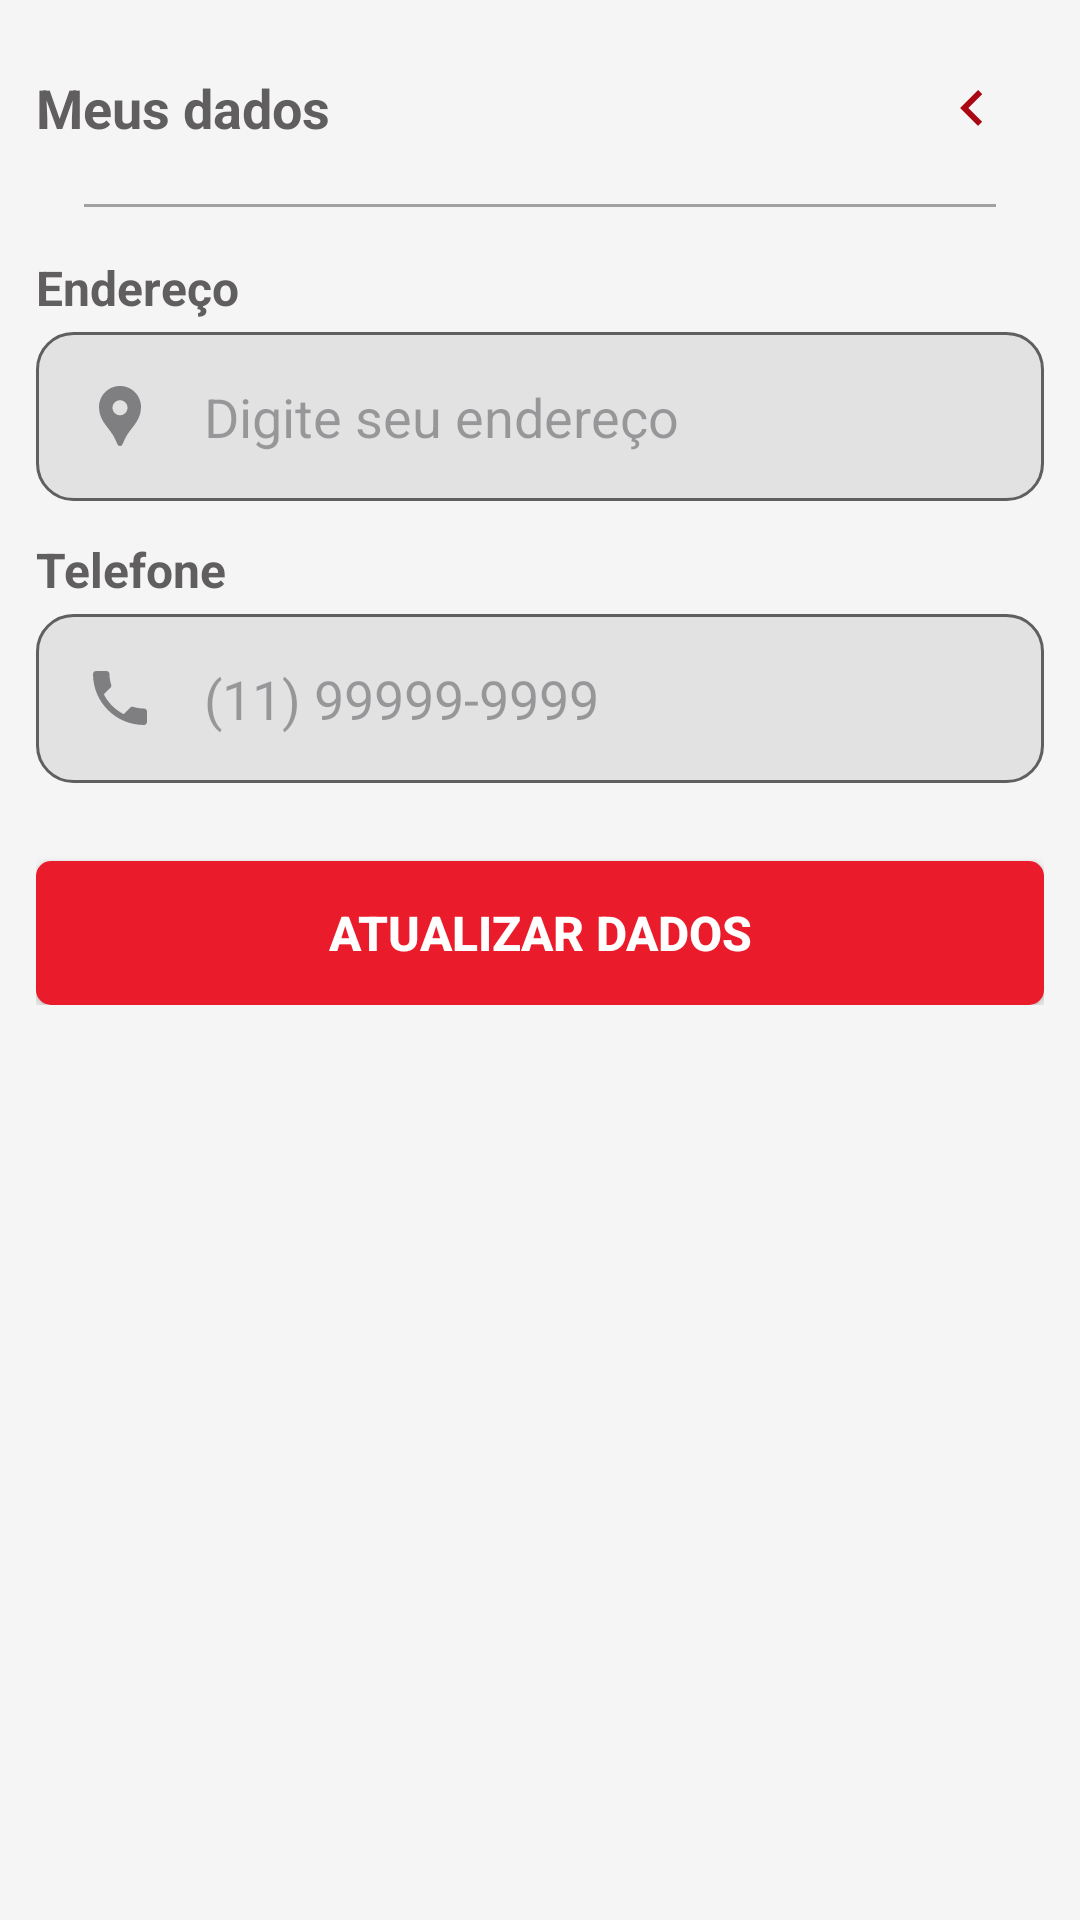

Icon bounding boxes for this 1080 × 1920 phone screenshot, format {"x1": x1, "y1": y1, "x2": x2, "y2": y2}:
Voltar: {"x1": 960, "y1": 90, "x2": 982, "y2": 126}
